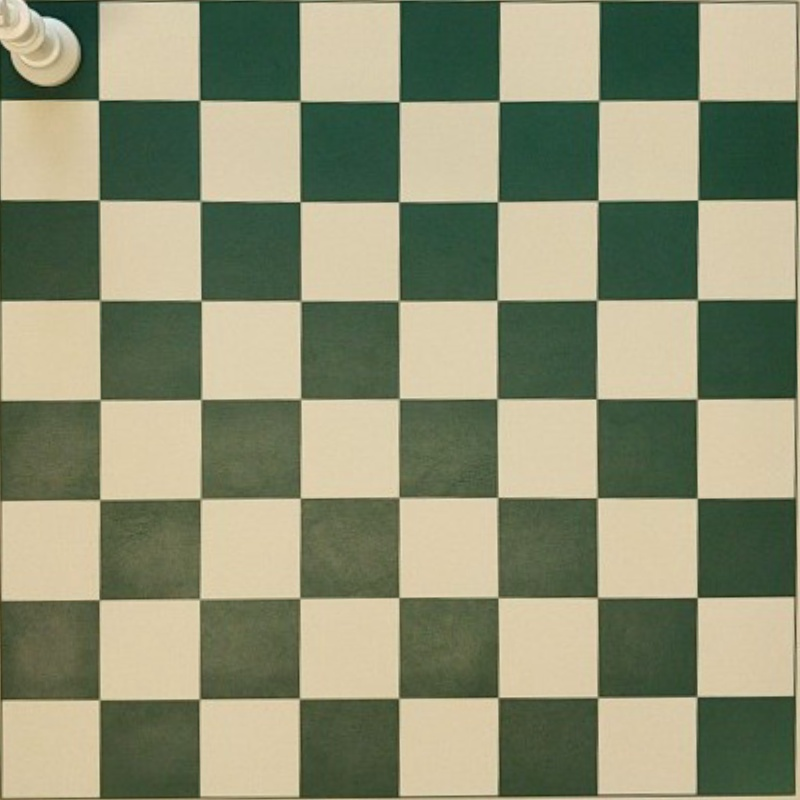white-king: (0, 1, 81, 87)
